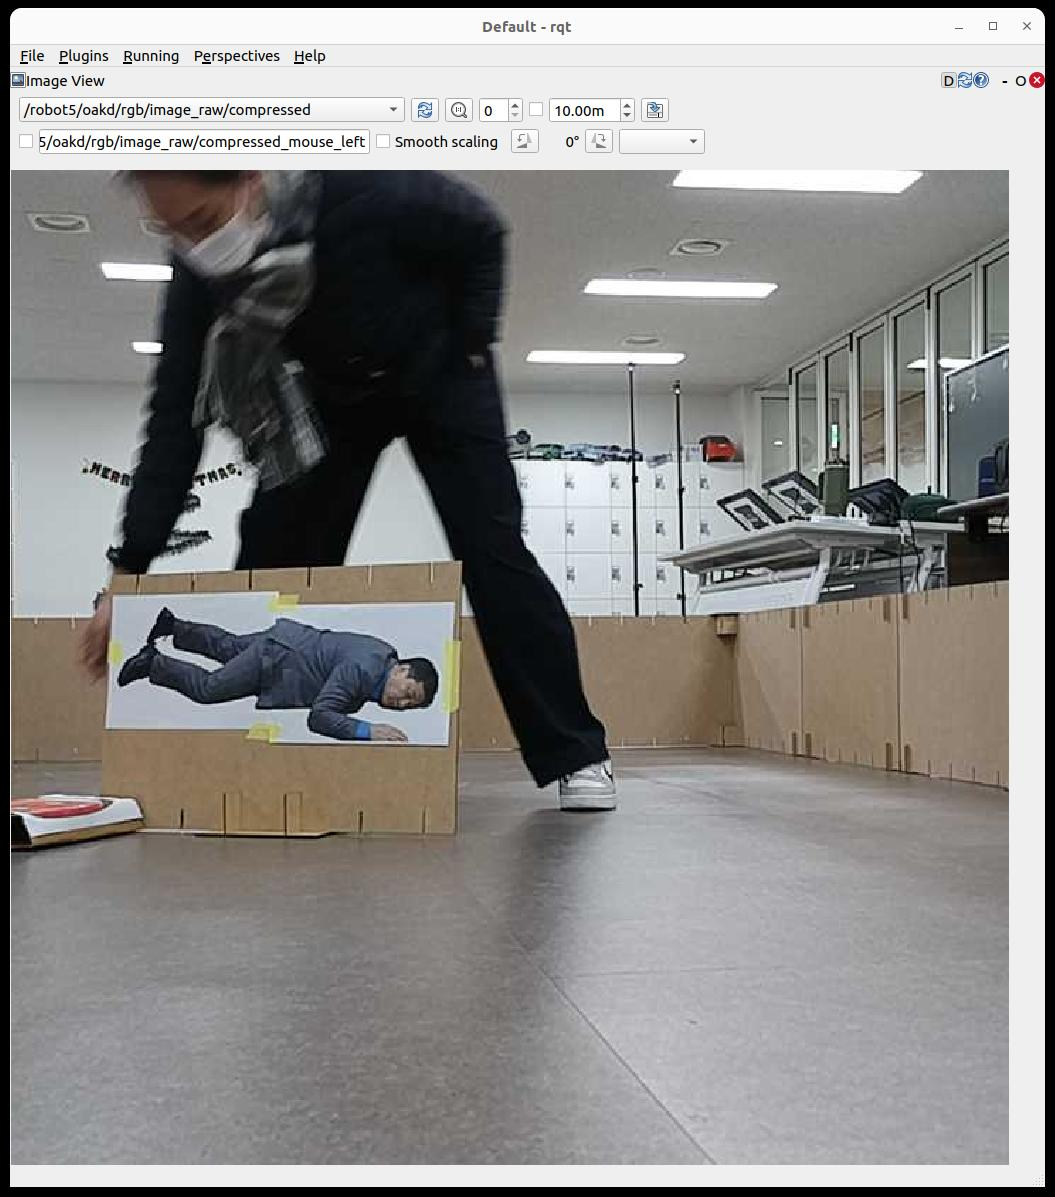AED: (11, 794, 142, 850)
Patient: (119, 608, 437, 741)
